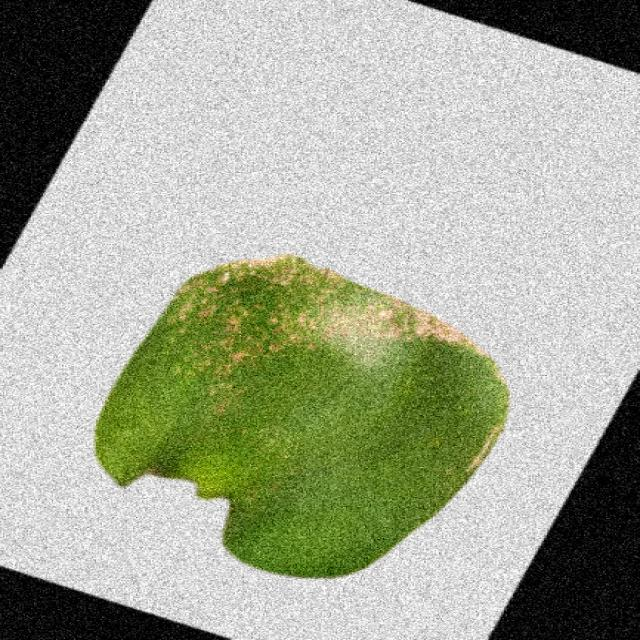daun berpenyakit bercak: (95, 255, 508, 577)
